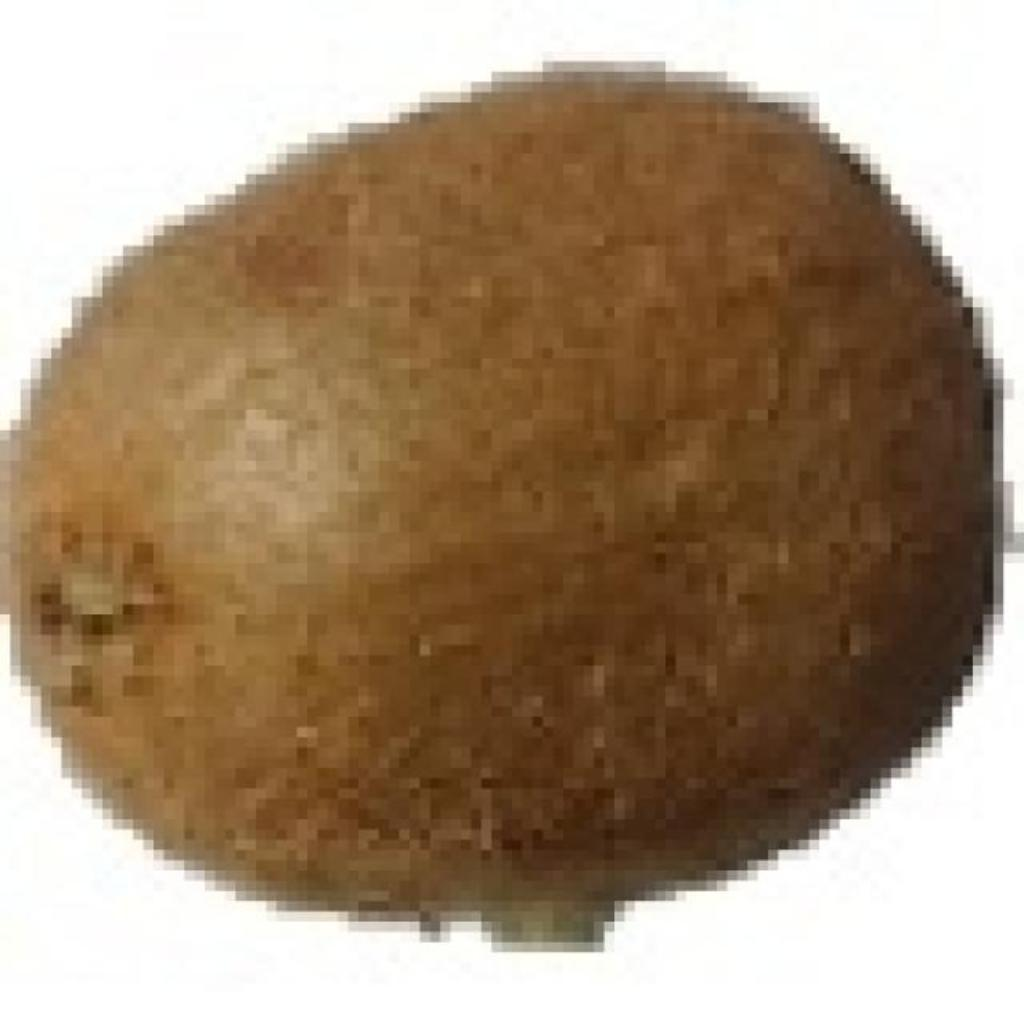kiwi: (10, 61, 973, 922)
